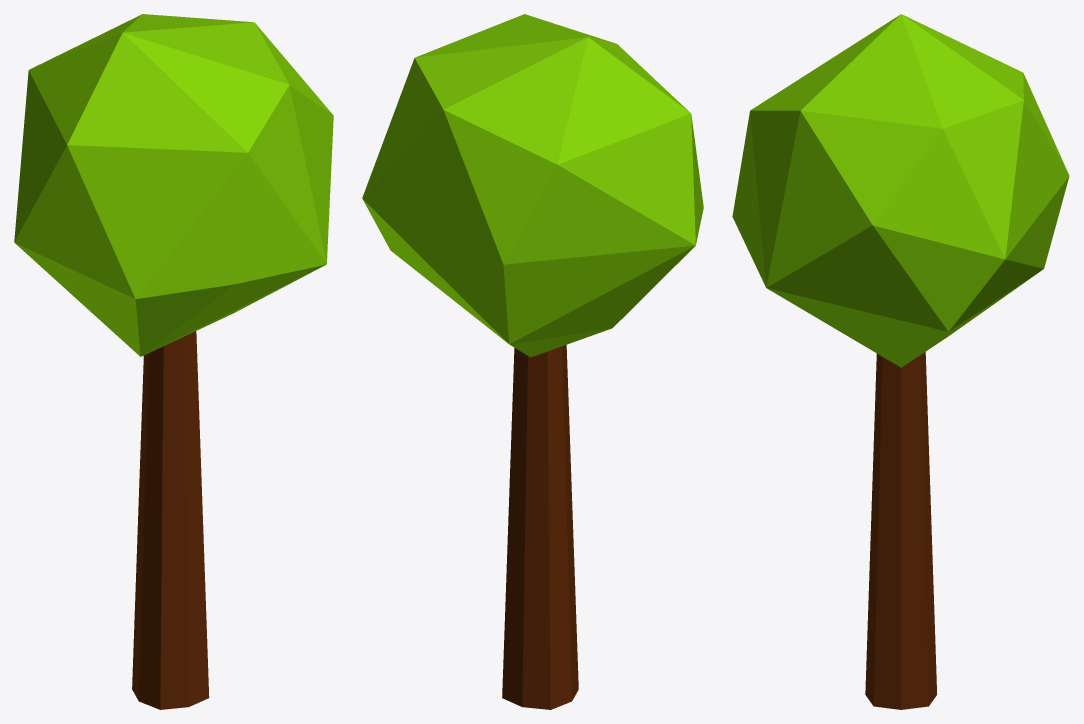
File: Tree.dae
The picture shows the model from 3 angles, left to right: view 1: azimuth 30°, elevation 25°; view 2: azimuth 150°, elevation 25°; view 3: azimuth 270°, elevation 25°; orthographic projection. The views are drawn at different scales.
Parts seen in each view (by area): view 1: Tree; view 2: Tree; view 3: Tree.
Boxes of the visible parts, x1,y1,x2,y2 form: Tree: (14, 14, 333, 709); Tree: (362, 14, 703, 709); Tree: (732, 14, 1069, 709).
Size of the model in its own units: 5.55 by 5.43 by 11.7.
